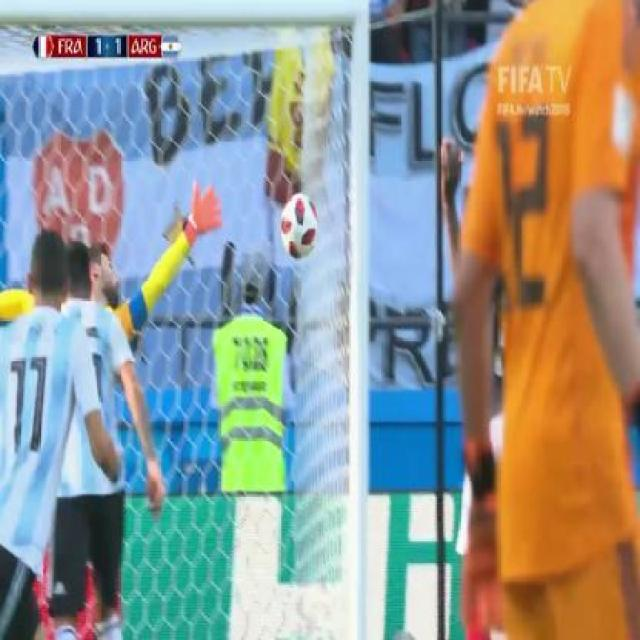ball: (276, 189, 321, 260)
player: (420, 0, 640, 638), (13, 212, 167, 640)
